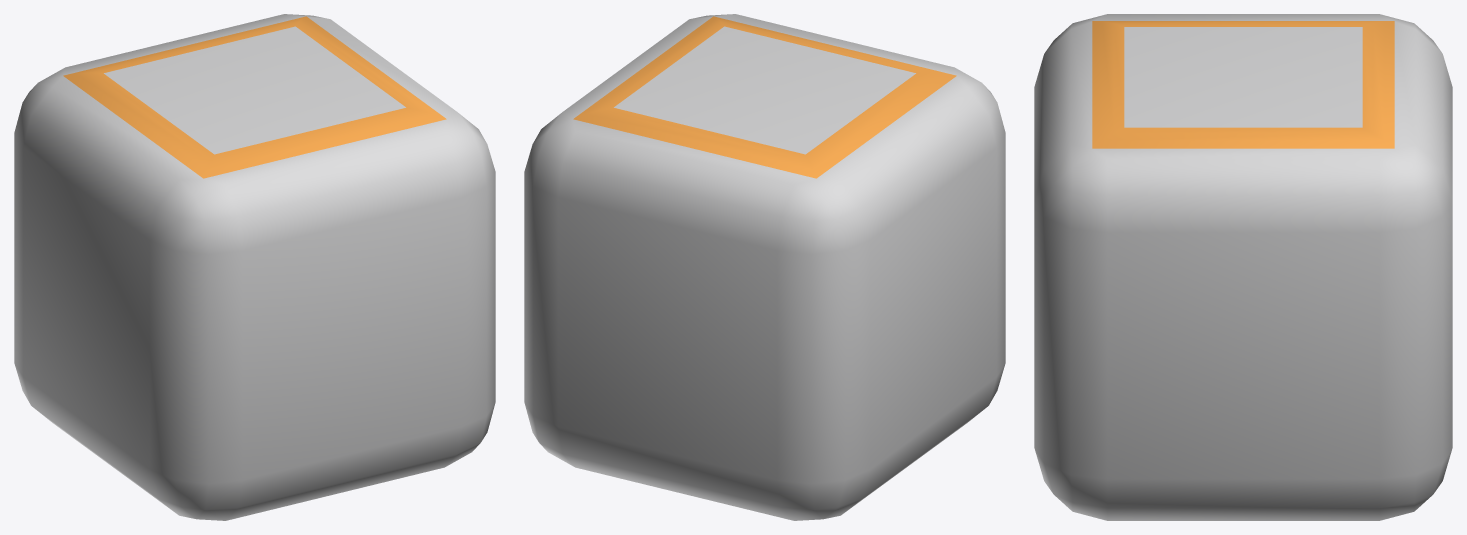
File: rounded_cube_stroked.fbx
3 renders of one model, left to right at view 1: azimuth 30°, elevation 25°; view 2: azimuth 150°, elevation 25°; view 3: azimuth 270°, elevation 25°, orthographic. The views are drawn at different scales.
Visible parts, largest first — view 1: Cube, Stroke; view 2: Cube, Stroke; view 3: Cube, Stroke.
Boxes of the visible parts, <box> form: Cube: <box>14,14,495,520</box>; Stroke: <box>63,16,446,178</box>; Cube: <box>524,14,1005,520</box>; Stroke: <box>573,16,956,178</box>; Cube: <box>1034,14,1452,520</box>; Stroke: <box>1092,21,1394,148</box>.
Bounding box in the file's own units: 200 × 200 × 200.
